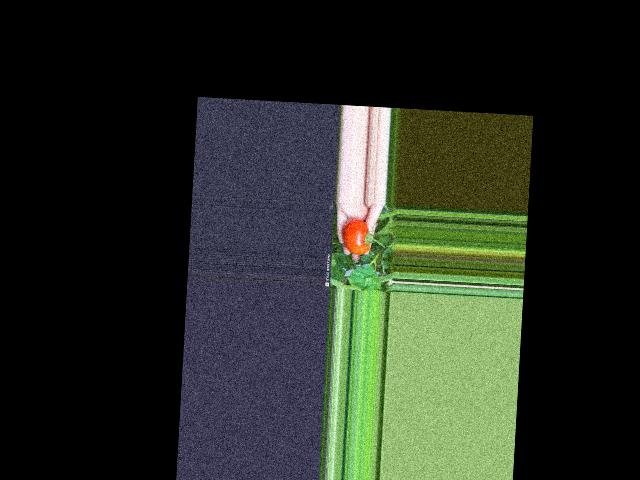tomato: (341, 217, 370, 254)
